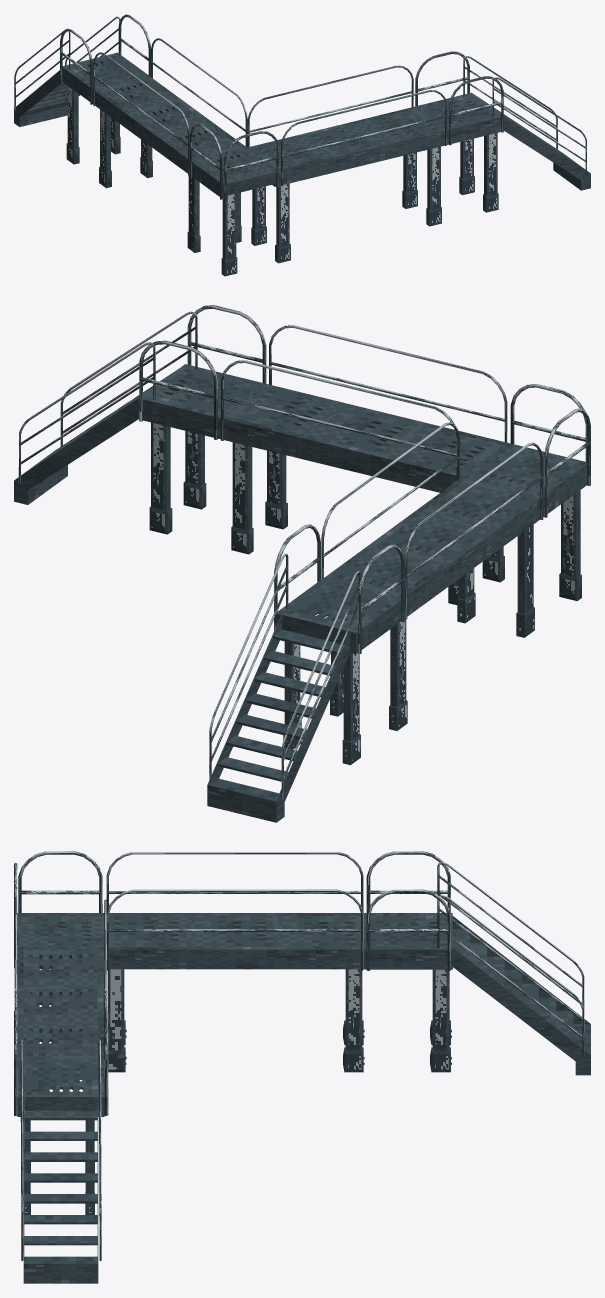
The model's file is CatwalkExample.fbx.
3 views of the same model, one above another, from view 1: azimuth 30°, elevation 25°; view 2: azimuth 150°, elevation 25°; view 3: azimuth 270°, elevation 25° (orthographic). The views are drawn at different scales.
Visible parts, largest first — view 1: CatPlat1.001, CatPlat1.002, catStair.001, catStair.003, CatPlat1.004, CatSupportBeam.006, CatSupportBeam.005, CatSupportBeam.009, CatSupportBeam.008, CatSupportBeam.007, catPlat3Rail.005, catPlat3Rail.004 (+18 smaller); view 2: catStair.003, CatPlat1.001, CatPlat1.002, catStair.001, CatPlat1.004, CatSupportBeam.005, CatSupportBeam.013, CatSupportBeam.010, CatSupportBeam.006, catPlat3Rail.005, catStairRail.006, catPlat3Rail.004 (+16 smaller); view 3: CatPlat1.002, catStair.001, catStair.003, CatPlat1.001, CatPlat1.004, catPlat3Rail.006, CatSupportBeam.003, CatSupportBeam.001, CatSupportBeam.005, catStairRail.006, catStairRail.007, catPlat3Rail.007 (+6 smaller).
Boxes of the visible parts, <box> form: CatPlat1.001: <box>247,106,447,185</box>; CatPlat1.002: <box>95,76,246,174</box>; catStair.001: <box>416,92,590,190</box>; catStair.003: <box>14,52,149,126</box>; CatPlat1.004: <box>192,147,279,199</box>; CatSupportBeam.006: <box>221,193,237,276</box>; CatSupportBeam.005: <box>187,175,241,252</box>; CatSupportBeam.009: <box>483,133,498,212</box>; CatSupportBeam.008: <box>426,146,441,226</box>; CatSupportBeam.007: <box>275,183,290,263</box>; catPlat3Rail.005: <box>281,90,446,185</box>; catPlat3Rail.004: <box>247,65,413,147</box>; catStair.003: <box>207,579,401,822</box>; CatPlat1.001: <box>219,384,507,492</box>; CatPlat1.002: <box>323,477,540,616</box>; catStair.001: <box>14,364,265,504</box>; CatPlat1.004: <box>462,443,587,516</box>; CatSupportBeam.005: <box>457,524,534,637</box>; CatSupportBeam.013: <box>231,442,253,554</box>; CatSupportBeam.010: <box>149,422,172,534</box>; CatSupportBeam.006: <box>559,490,581,601</box>; catPlat3Rail.005: <box>269,325,507,442</box>; catStairRail.006: <box>209,553,288,779</box>; catPlat3Rail.004: <box>221,360,457,480</box>; CatPlat1.002: <box>109,913,365,969</box>; catStair.001: <box>17,1060,104,1283</box>; catStair.003: <box>365,913,590,1075</box>; CatPlat1.001: <box>17,949,104,1060</box>; CatPlat1.004: <box>17,913,104,969</box>; catPlat3Rail.006: <box>107,889,363,970</box>; CatSupportBeam.003: <box>343,969,364,1072</box>; CatSupportBeam.001: <box>430,969,451,1072</box>; CatSupportBeam.005: <box>107,969,126,1072</box>; catStairRail.006: <box>437,895,584,1056</box>; catStairRail.007: <box>437,862,584,1008</box>; catPlat3Rail.007: <box>106,852,363,912</box>.
Bounding box in the file's own units: 1327 × 1324 × 479.
2 materials, 2 textured.
